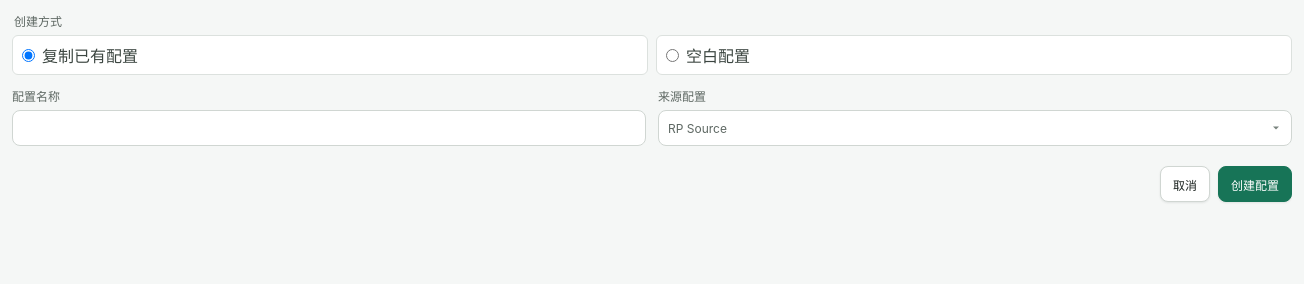
shows a creation failure and preserves the form for retry
Type "重复配置" into the field labelled "配置名称" at [329, 128], box [12,110,646,146]
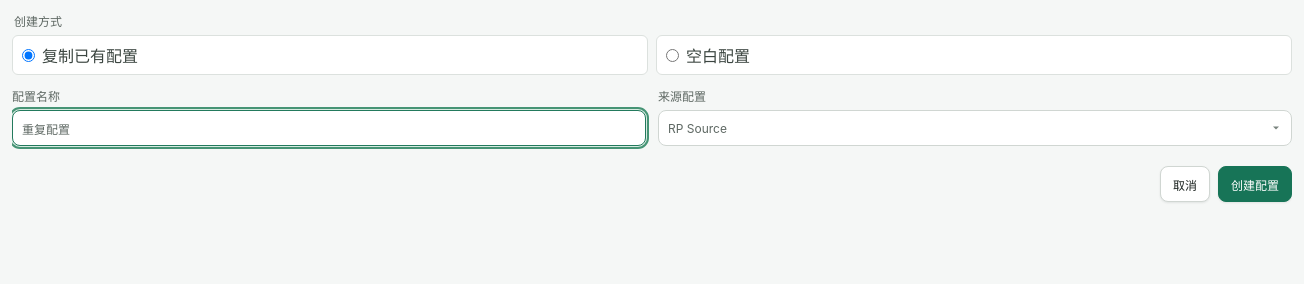
Click the button "创建配置" at [1255, 184], box [1218,166,1292,202]
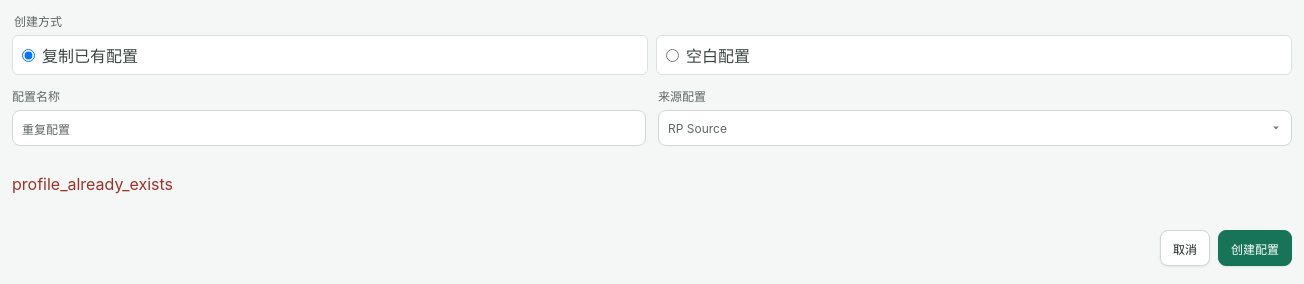
Expected: the button "创建配置" is enabled, [1218,230,1292,266]
Expected: the message reads "profile_already_exists", [12,174,173,194]
